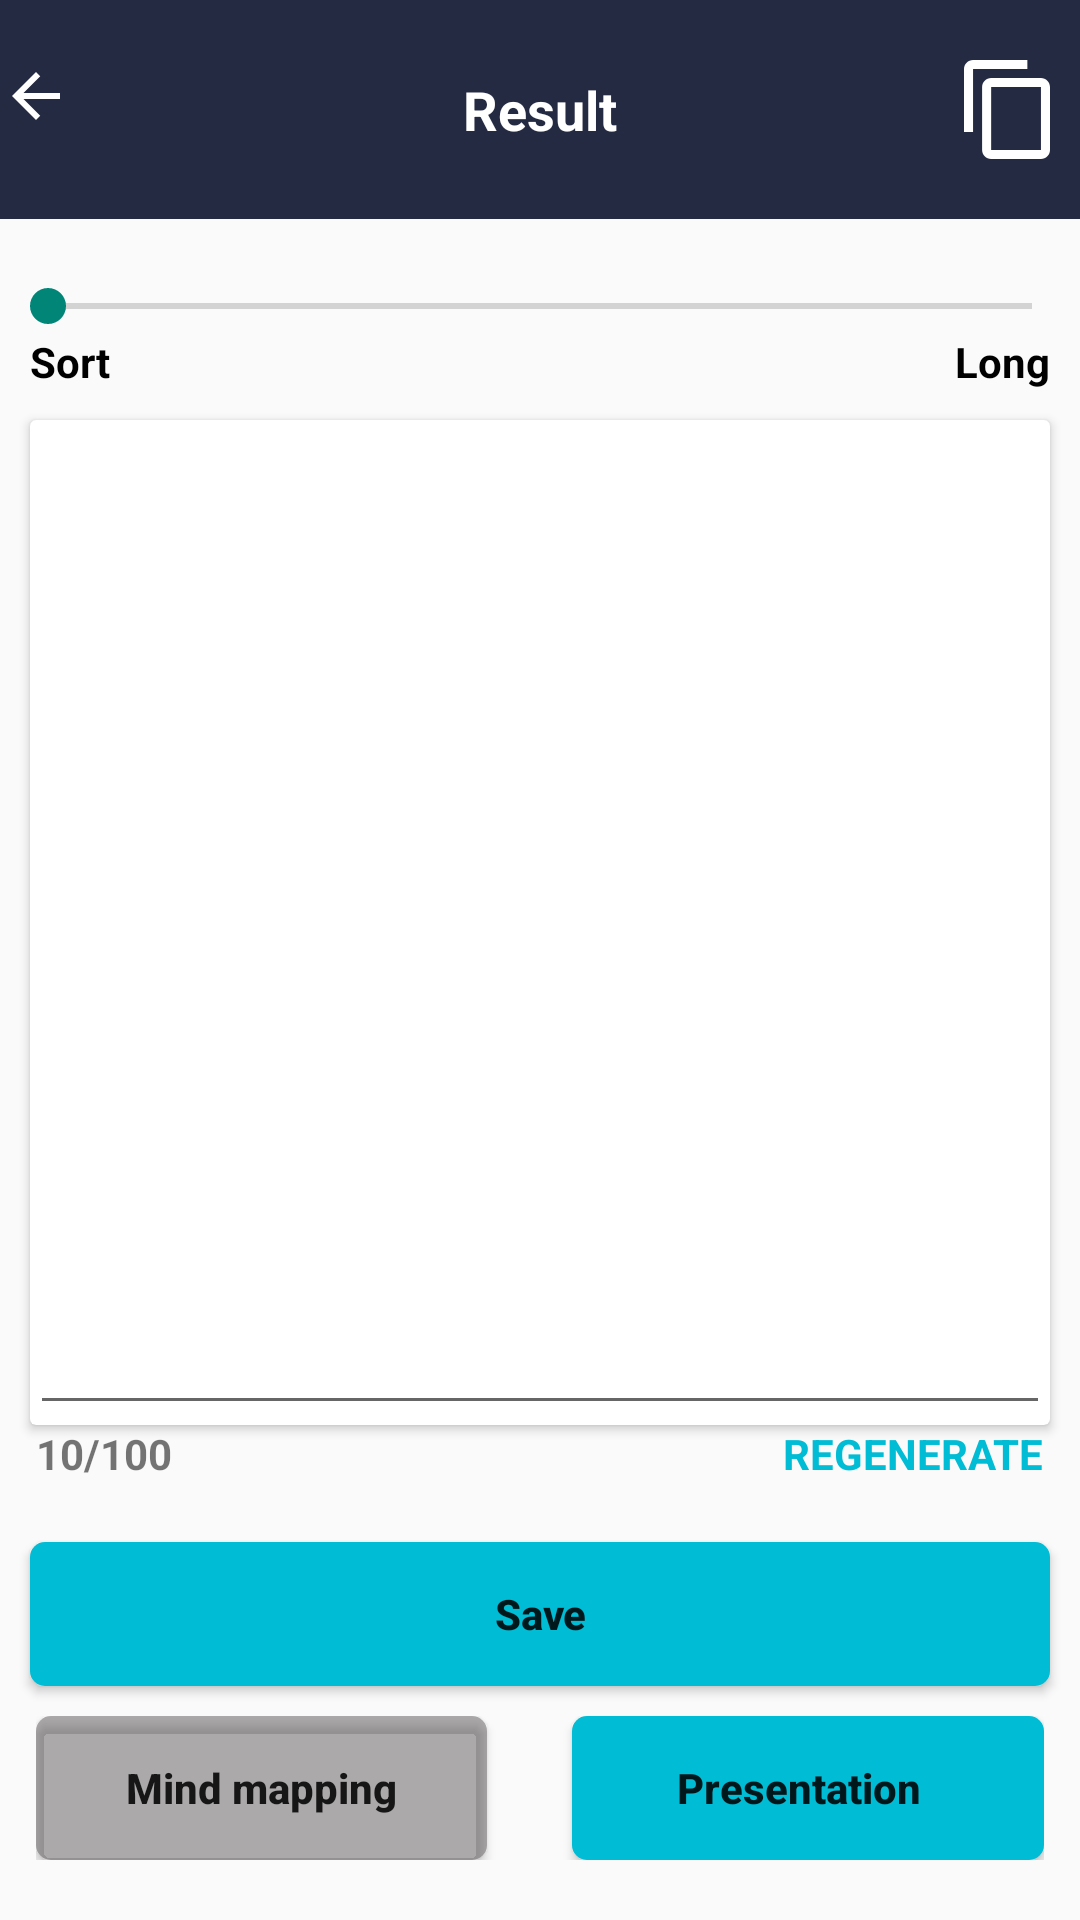

Icons on this 1080 x 1920 Android screen, each with its box as Rect(x1, y1, x2, y2):
arrow back: Rect(12, 72, 60, 120)
